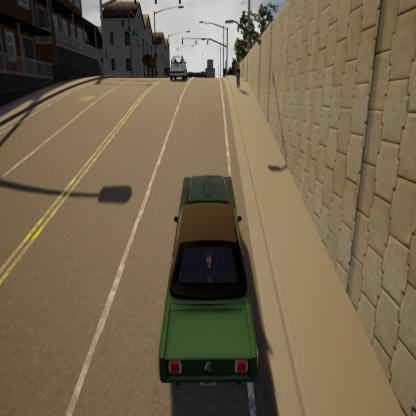Cars: (146, 166, 264, 394), (168, 52, 191, 85)
Pedestrian: (234, 60, 244, 95)
